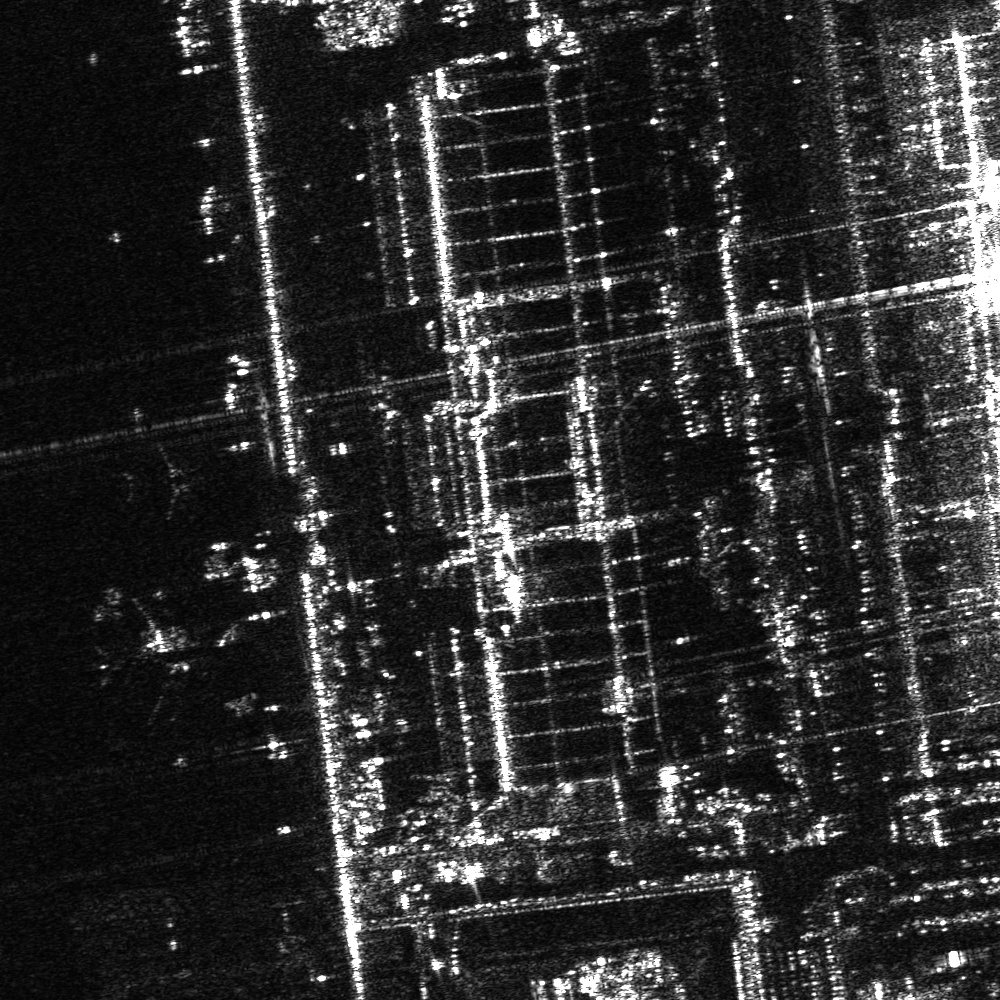Boeing787: (78, 598, 219, 732), (110, 432, 214, 531)
